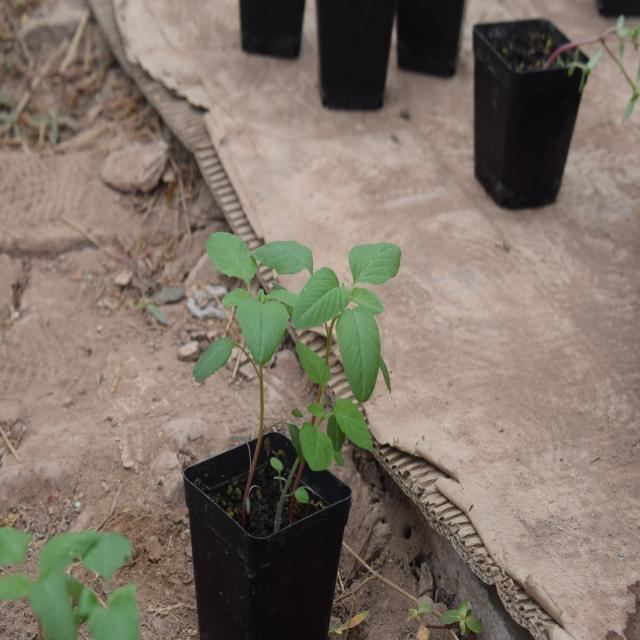pigweed: (298, 234, 415, 402), (192, 226, 285, 414)
